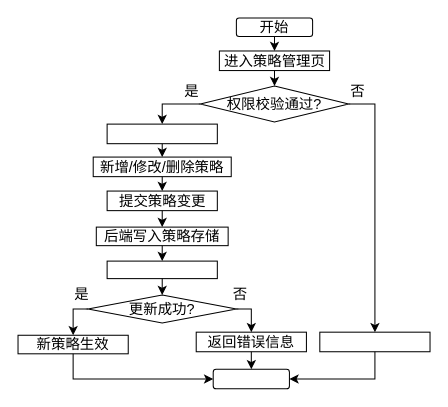
Some shapes in this 448 by 407 pixel diagram are drawn without their labels. Each missing label, with the box of its shape:
查询当前策略: (106, 123, 217, 144)
结束: (212, 368, 289, 389)
触发策略重载: (106, 260, 217, 279)
返回无权限: (319, 331, 430, 352)
